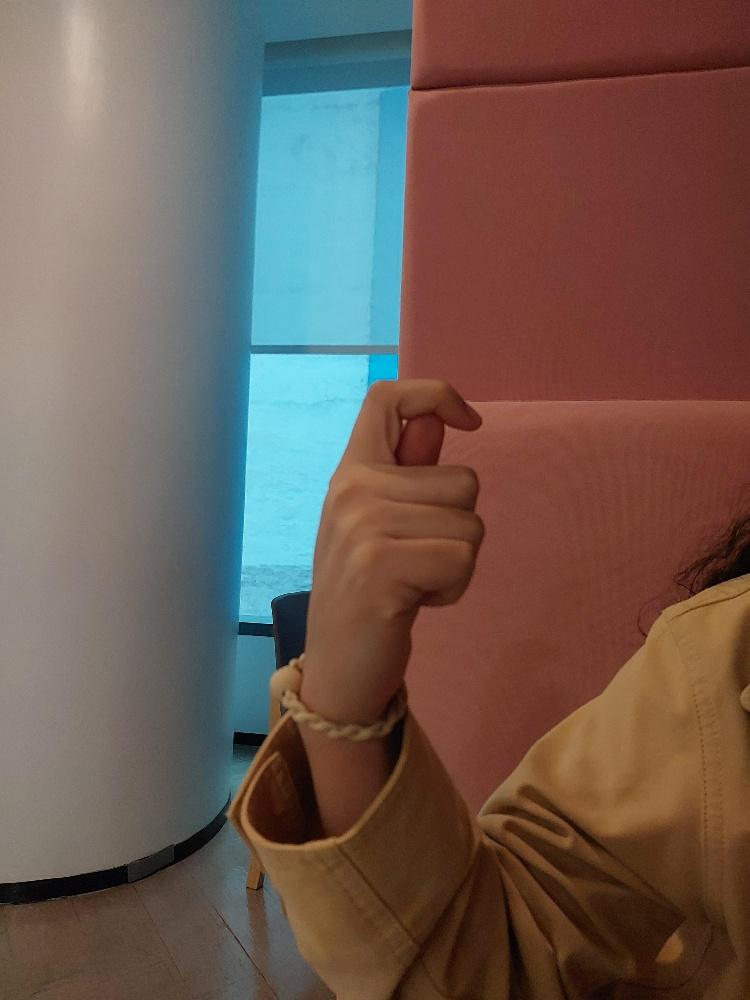t: (297, 370, 493, 739)
